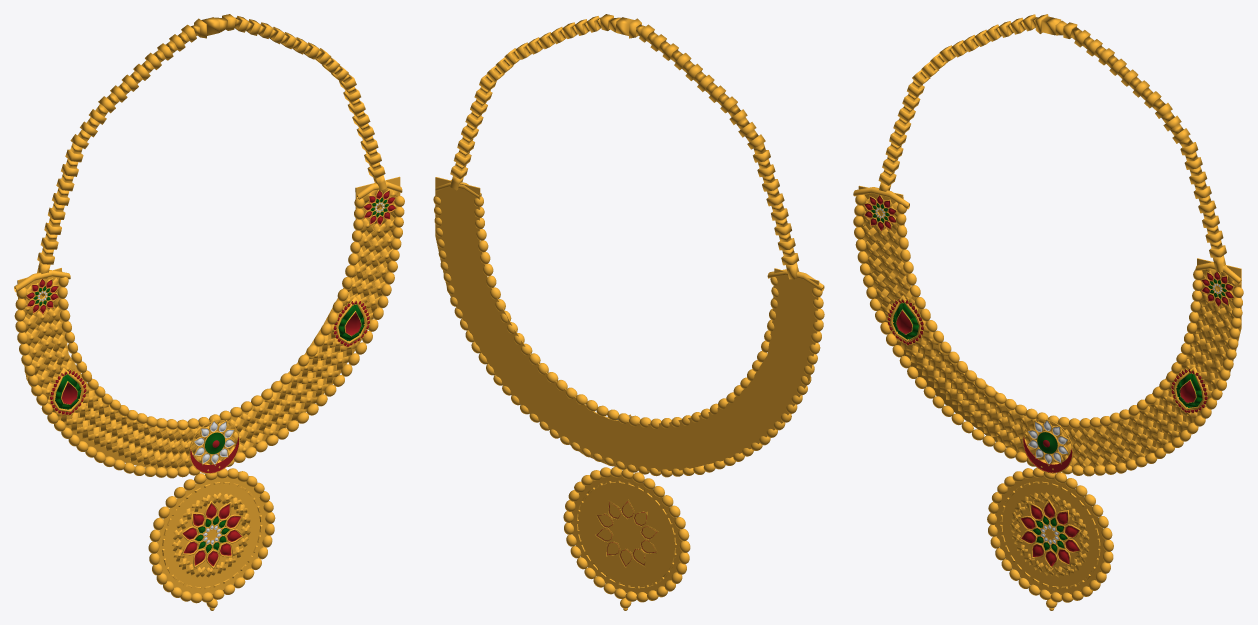
File: Jewellery_Necklace.glb
3 renders of one model, left to right at view 1: azimuth 30°, elevation 25°; view 2: azimuth 150°, elevation 25°; view 3: azimuth 330°, elevation 25°, orthographic.
Parts seen in each view (by area): view 1: Plane.016, Gold_Plate, Sphere, Plate, Plane.001, Sphere.001, Plane.002, Plane.003, Sphere.002, Petals_Design, Design_Leaf.002, Plane.007 (+6 smaller); view 2: Plate, Gold_Plate, Plane.016, Sphere, Sphere.001, Sphere.002, Design_Leaf.002; view 3: Plane.016, Gold_Plate, Sphere, Plate, Plane.001, Sphere.001, Plane.002, Plane.003, Sphere.002, Petals_Design, Design_Leaf.002, Plane.007 (+6 smaller).
Part boxes in pixels (x1,y1,x2,y2): Plane.016: [37, 14, 386, 278]; Gold_Plate: [156, 476, 267, 595]; Sphere: [14, 196, 404, 478]; Plate: [17, 176, 400, 469]; Plane.001: [19, 188, 398, 468]; Sphere.001: [57, 198, 364, 430]; Plane.002: [35, 180, 387, 455]; Plane.003: [46, 190, 377, 442]; Sphere.002: [148, 468, 275, 603]; Petals_Design: [49, 297, 370, 415]; Design_Leaf.002: [180, 501, 243, 569]; Plane.007: [172, 493, 250, 577]; Plate: [435, 177, 819, 471]; Gold_Plate: [571, 475, 682, 594]; Plane.016: [450, 14, 799, 279]; Sphere: [433, 196, 824, 477]; Sphere.001: [473, 196, 778, 428]; Sphere.002: [563, 466, 690, 602]; Design_Leaf.002: [595, 499, 658, 567]; Plane.016: [878, 14, 1226, 272]; Gold_Plate: [994, 475, 1105, 595]; Sphere: [853, 195, 1243, 476]; Plate: [858, 185, 1241, 466]; Plane.001: [862, 194, 1241, 468]; Sphere.001: [896, 204, 1203, 428]; Plane.002: [875, 199, 1227, 459]; Plane.003: [887, 199, 1216, 445]; Sphere.002: [987, 468, 1113, 602]; Petals_Design: [887, 295, 1207, 413]; Design_Leaf.002: [1018, 500, 1082, 569]; Plane.007: [1010, 492, 1089, 577].
Bounding box in the file's own units: 2.71 × 3.93 × 0.1235.
